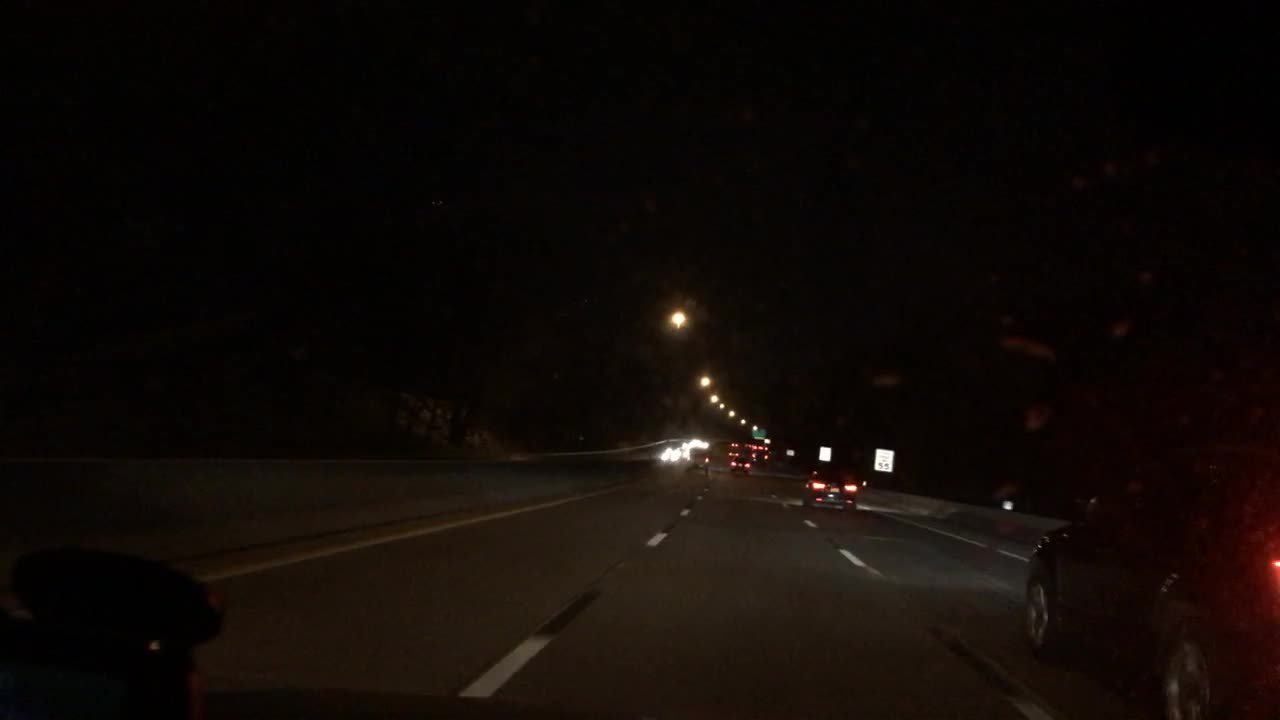car: (1021, 446, 1279, 715), (804, 469, 857, 508), (687, 450, 707, 470), (730, 454, 750, 471), (659, 447, 680, 462), (753, 452, 770, 465), (682, 442, 690, 458), (691, 438, 706, 446), (752, 446, 766, 452), (730, 441, 740, 449)
traffic sign: (874, 448, 894, 471), (818, 445, 832, 461), (754, 429, 767, 440), (786, 449, 796, 456)
